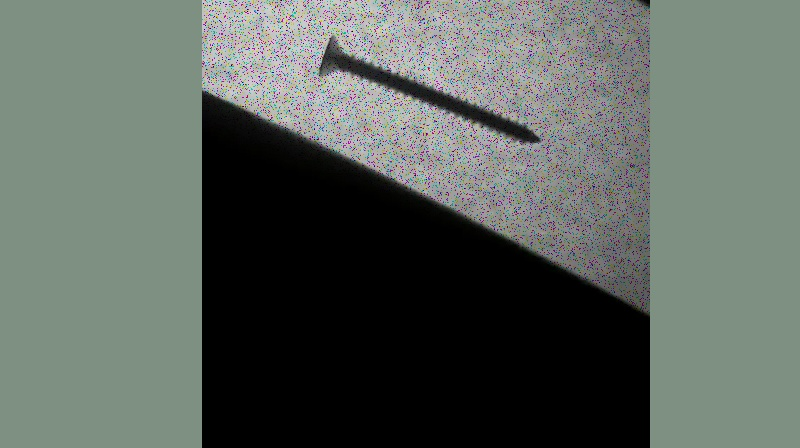S002: (311, 30, 542, 147)
